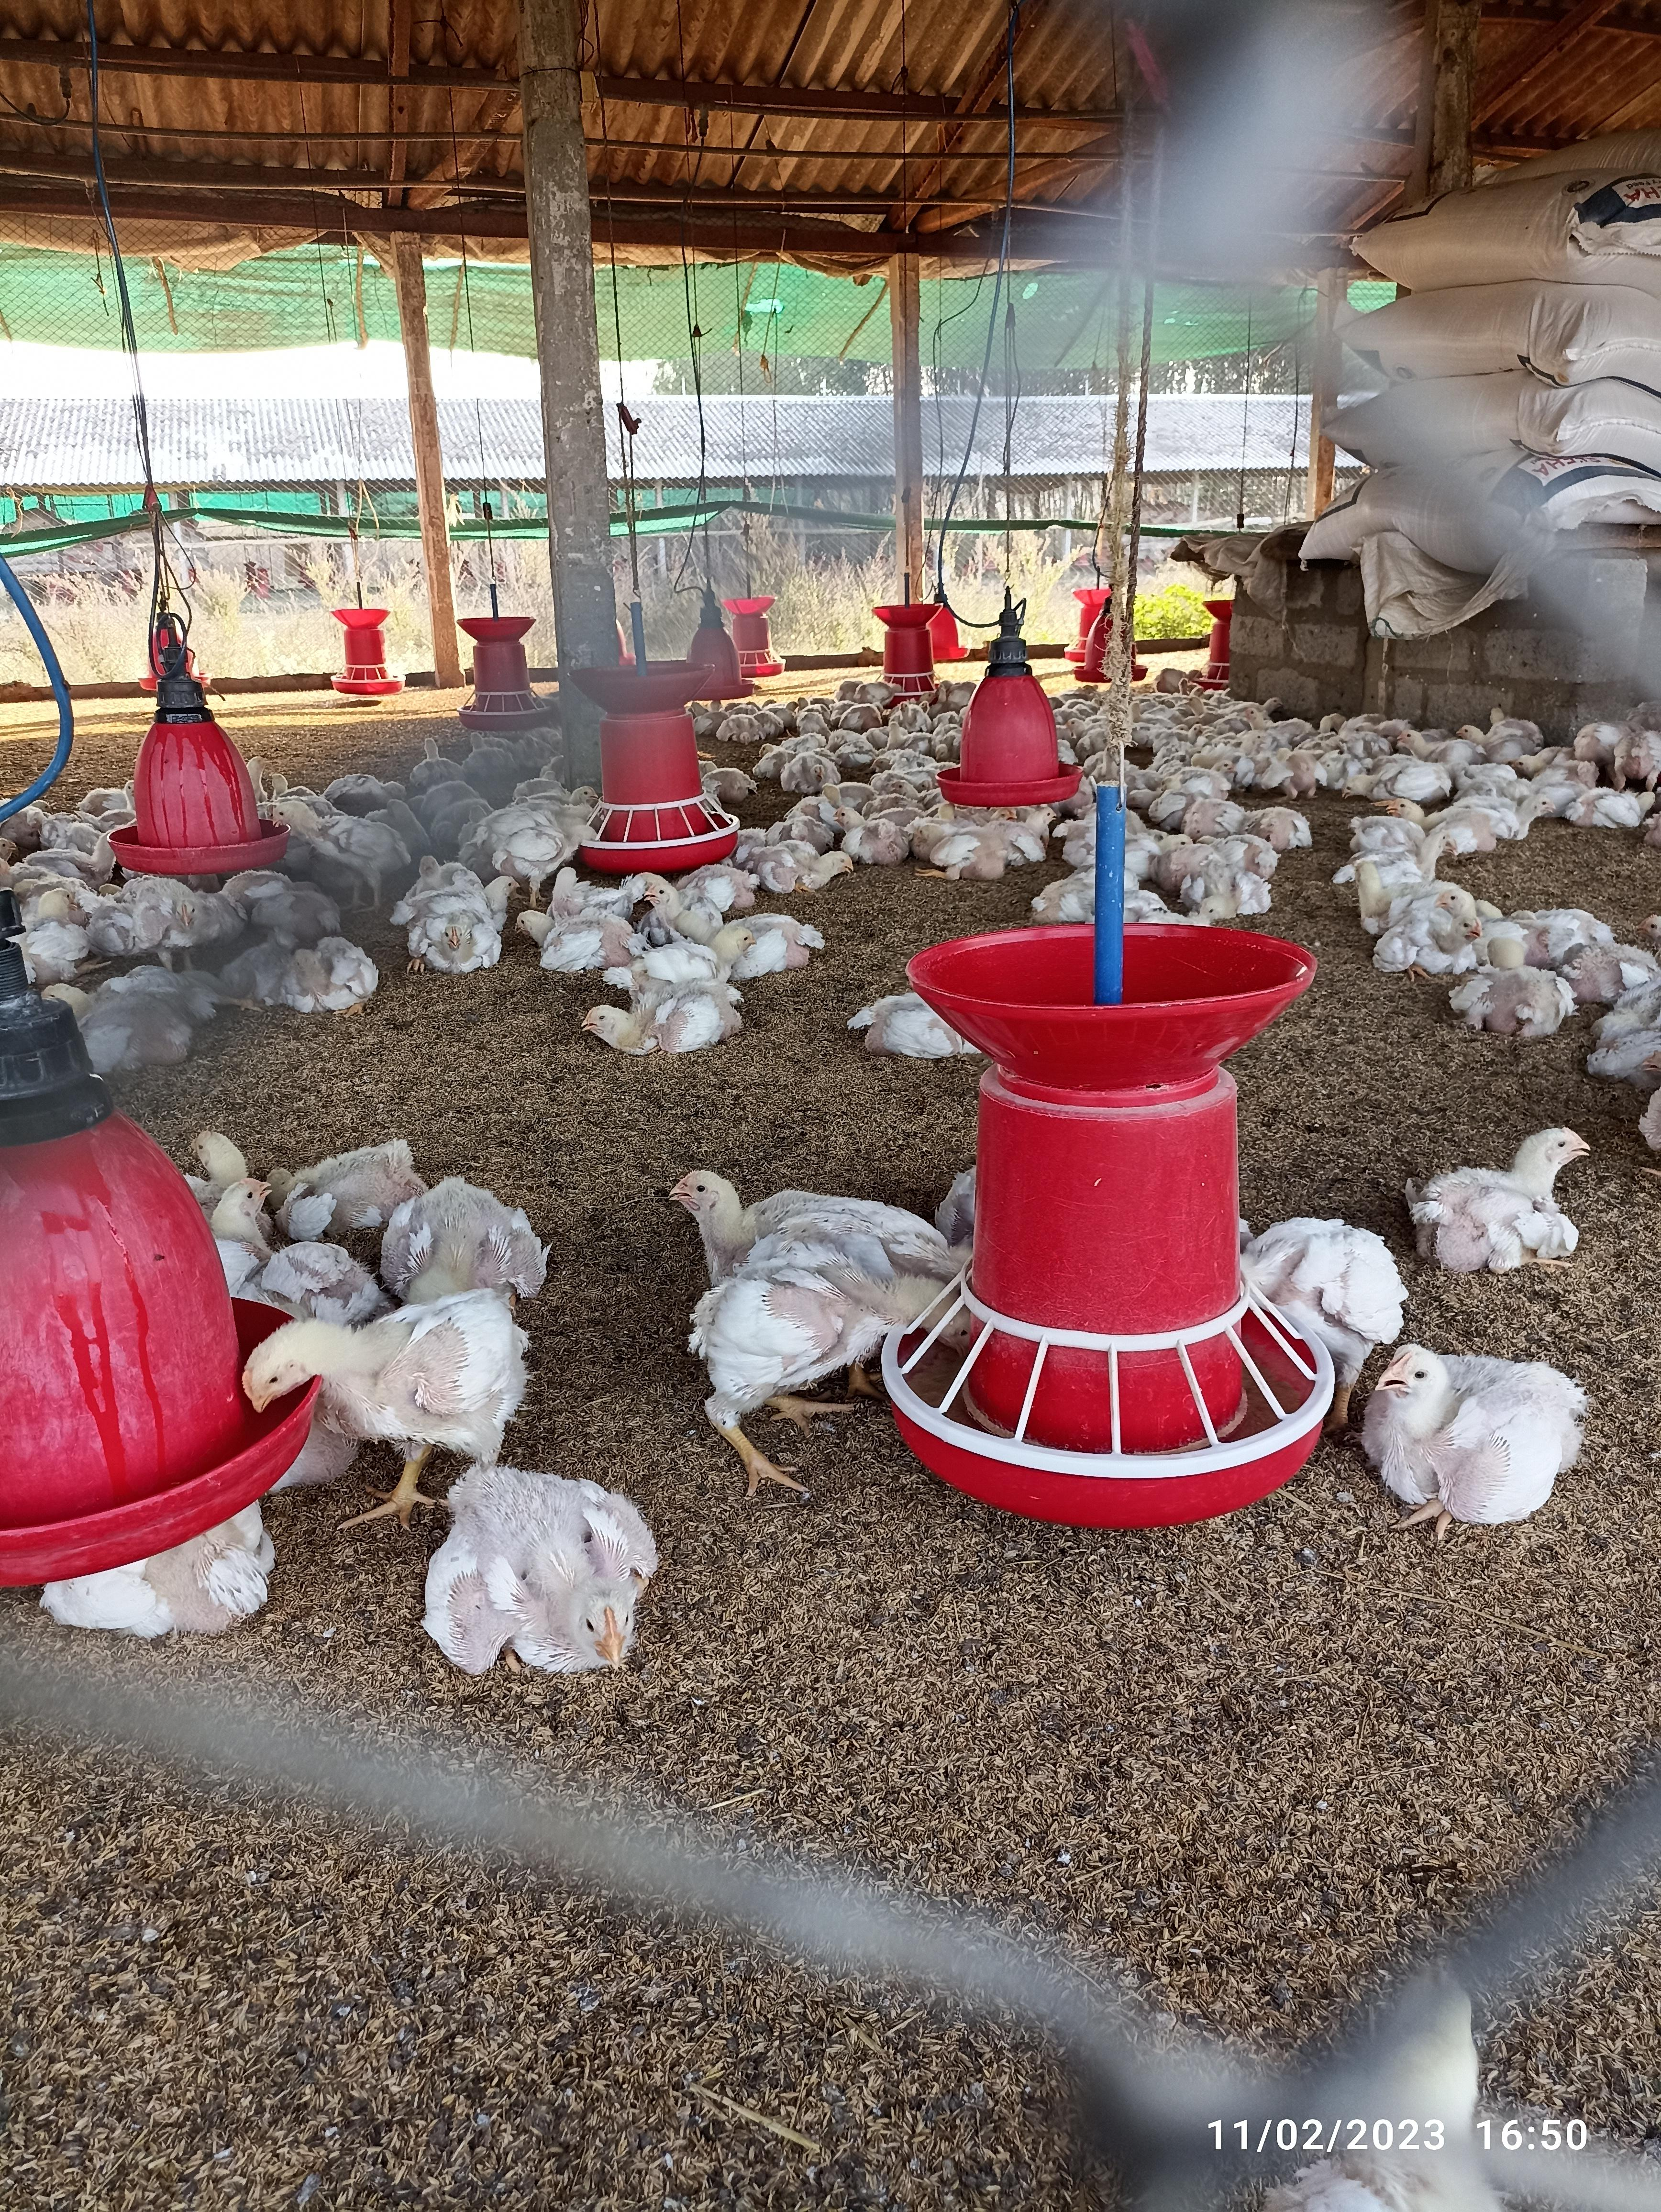Pollos: (248, 1268, 529, 1464), (420, 1457, 660, 1685), (1364, 1342, 1595, 1521), (666, 1157, 935, 1275), (1412, 1123, 1603, 1265), (579, 980, 747, 1055), (403, 890, 515, 972)
